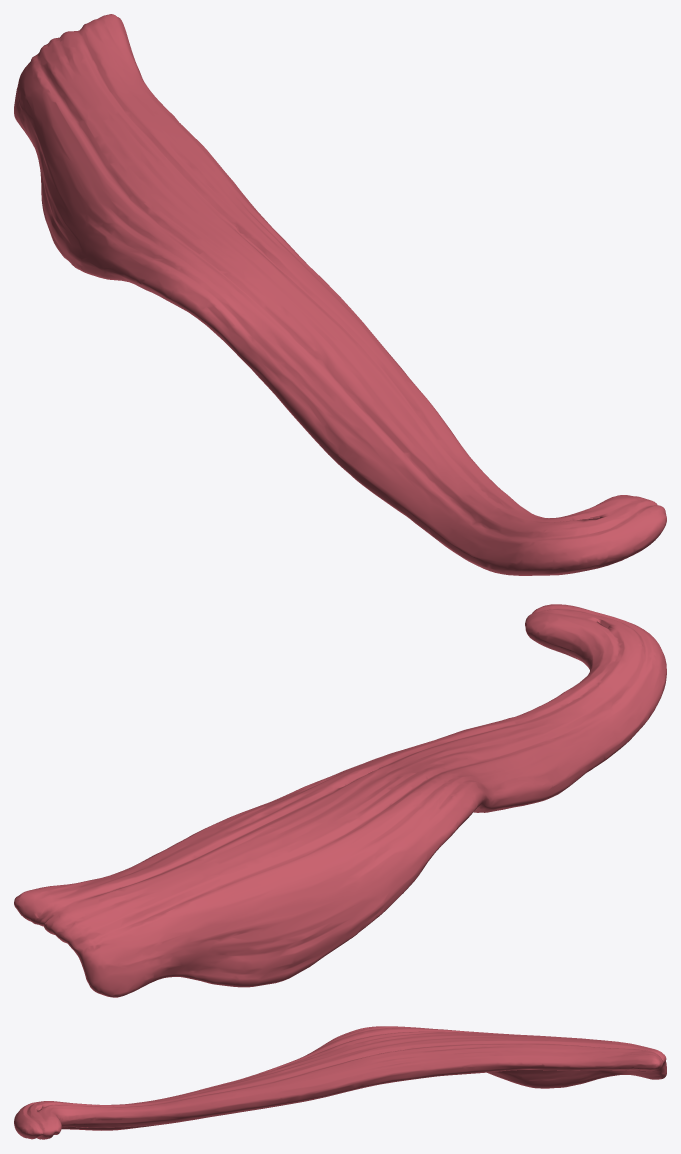
The picture shows the model from 3 angles, top to bottom: view 1: azimuth 30°, elevation 25°; view 2: azimuth 150°, elevation 25°; view 3: azimuth 270°, elevation 25°; orthographic projection. The views are drawn at different scales.
Visible parts, largest first — view 1: 右侧腭咽肌; view 2: 右侧腭咽肌; view 3: 右侧腭咽肌.
Part boxes in pixels (box(x1,y1,x2,y2)): 右侧腭咽肌: box(14, 14, 666, 575); 右侧腭咽肌: box(14, 604, 666, 997); 右侧腭咽肌: box(14, 1026, 666, 1139).
Bounding box in the file's own units: 0.0302 × 0.0225 × 0.1297.
